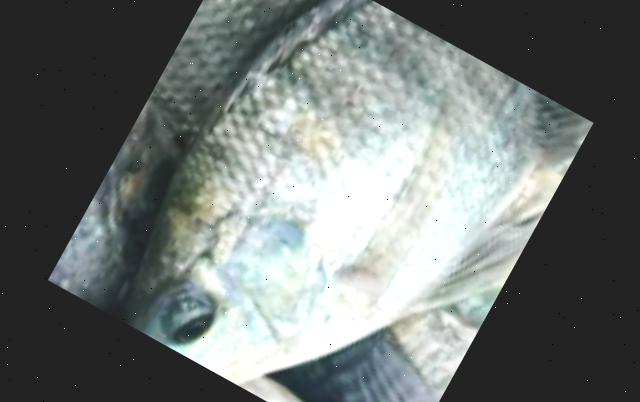Columnaris Disease: (126, 0, 592, 382)
